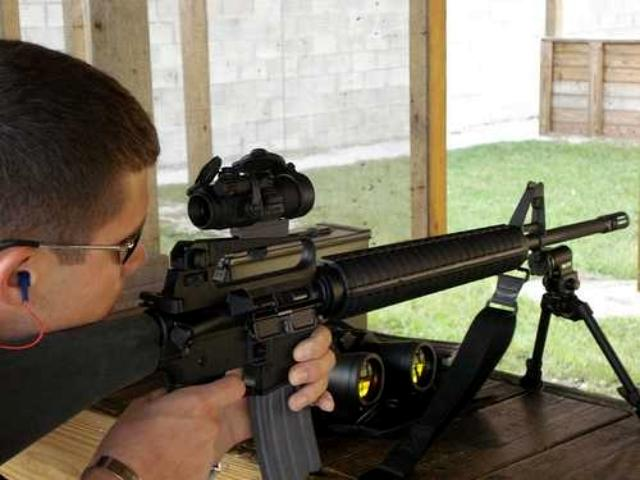rifle: (52, 190, 640, 480)
